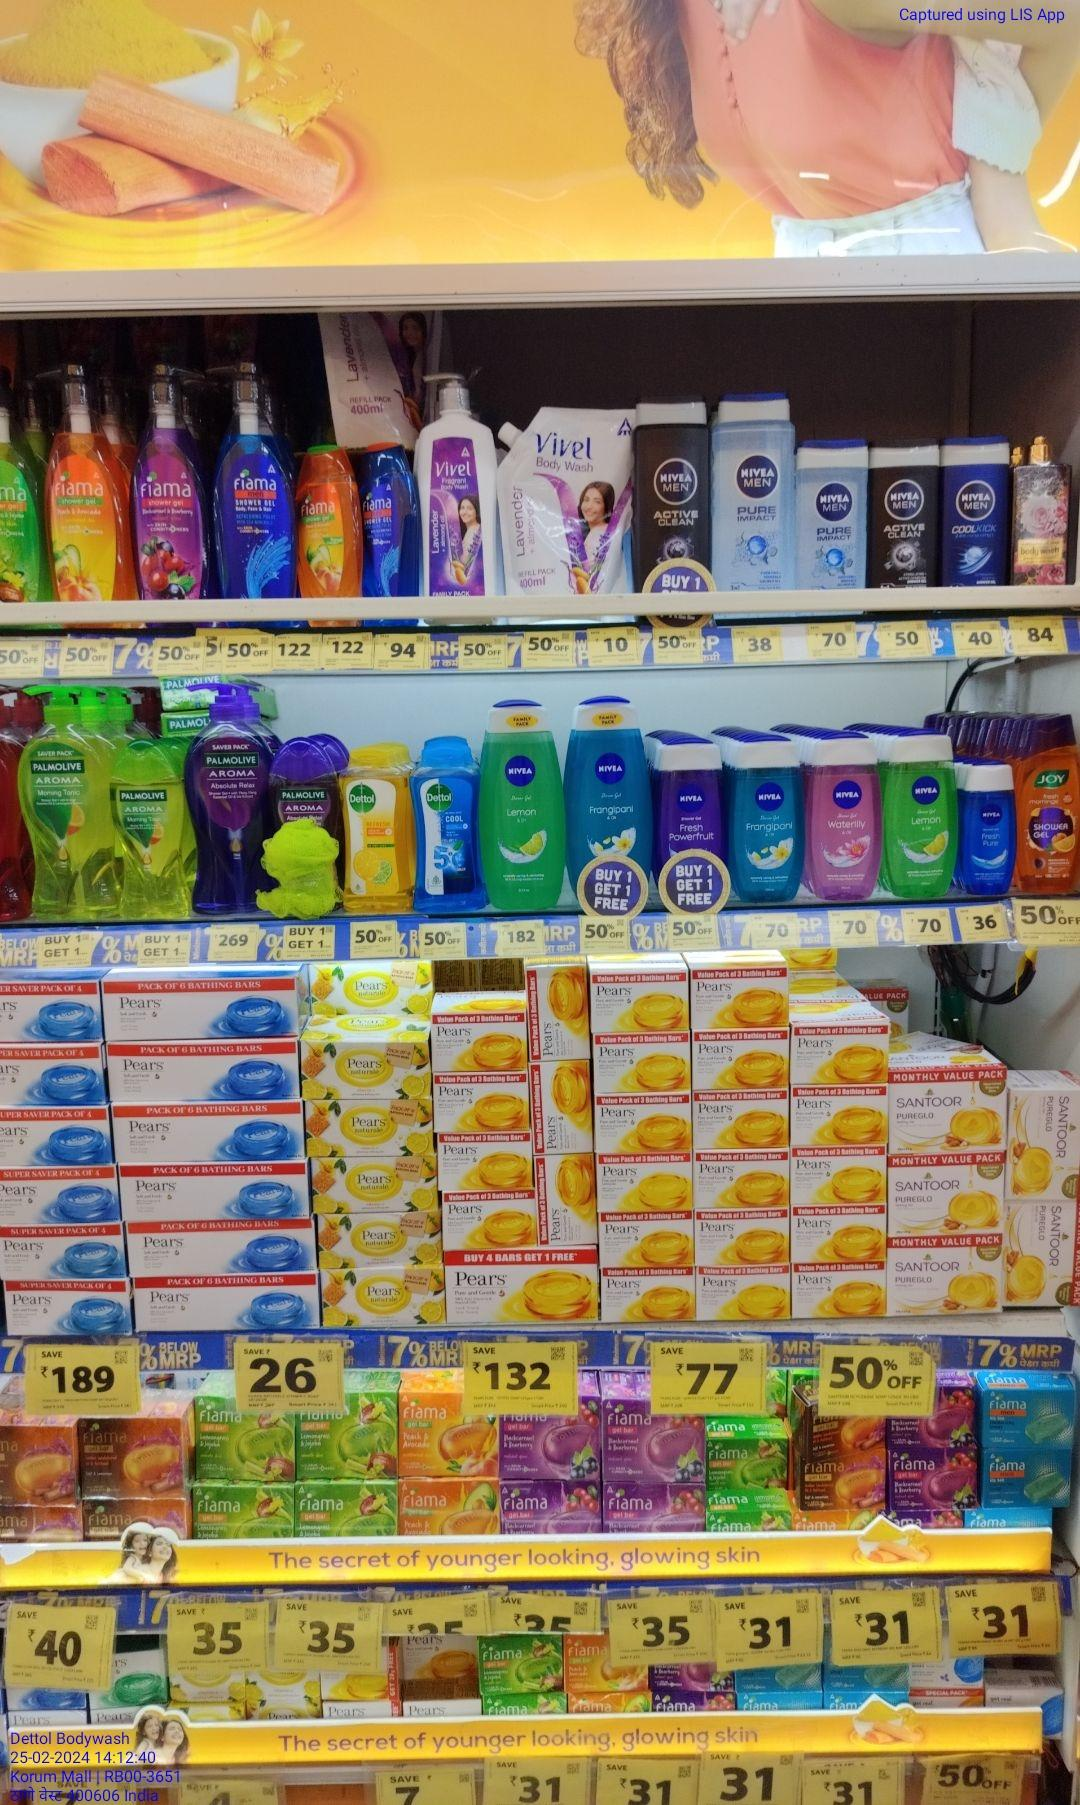Dettol_Bodywash_Cool: (411, 737, 483, 913)
Dettol_Bodywash_Refresh: (341, 751, 406, 914)
Nivea_Shower_Gel_Frangipani_and_Oil_250ML: (567, 696, 653, 911), (734, 734, 804, 904)
Nivea_Shower_Gel_Fresh_Powerfruit_250ML: (661, 739, 728, 906)
Nivea_Shower_Gel_Lemon_and_Oil_250ML: (482, 701, 562, 913), (887, 732, 958, 896)
Nivea_Shower_Gel_Waterlily_and_Oil_250ML: (814, 733, 878, 901)
Palmolive_Aroma_Morning_Tonic_Shower_Gel_250ML: (109, 742, 186, 919)
